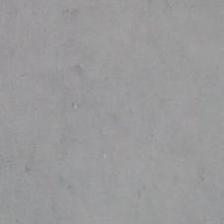Non_Crack: (7, 26, 214, 186)
